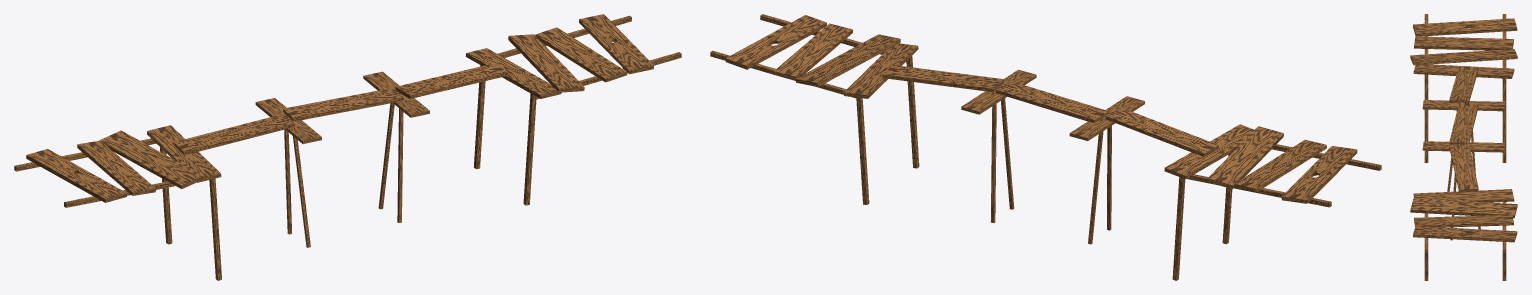
Rendered from Мост_Запекшийся+.fbx.
The picture shows the model from 3 angles, left to right: view 1: azimuth 30°, elevation 25°; view 2: azimuth 150°, elevation 25°; view 3: azimuth 270°, elevation 25°; orthographic projection. The views are drawn at different scales.
Visible parts, largest first — view 1: Основа моста, Нормальная доска, Нормальная доска.004, Нормальная доска.003; view 2: Основа моста, Нормальная доска, Нормальная доска.004, Нормальная доска.003; view 3: Основа моста, Нормальная доска.003, Нормальная доска.004, Нормальная доска.
Boxes of the visible parts, bbox=[...] form: Основа моста: bbox=[14, 14, 681, 280]; Нормальная доска: bbox=[173, 113, 294, 155]; Нормальная доска.004: bbox=[283, 87, 403, 121]; Нормальная доска.003: bbox=[395, 63, 508, 98]; Основа моста: bbox=[710, 14, 1381, 280]; Нормальная доска: bbox=[1105, 107, 1218, 156]; Нормальная доска.004: bbox=[995, 81, 1109, 122]; Нормальная доска.003: bbox=[882, 65, 1004, 92]; Основа моста: bbox=[1410, 14, 1517, 280]; Нормальная доска.003: bbox=[1449, 143, 1478, 192]; Нормальная доска.004: bbox=[1449, 102, 1478, 144]; Нормальная доска: bbox=[1449, 66, 1478, 103].
Bounding box in the file's own units: 6579 × 1289 × 1264.
Materials: 2 (2 with a texture image).
